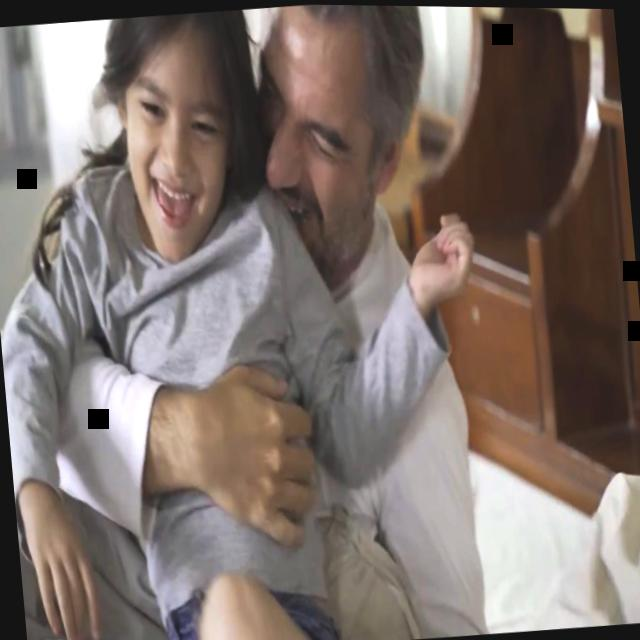NO-Mask: (248, 3, 384, 278), (118, 44, 242, 265)
